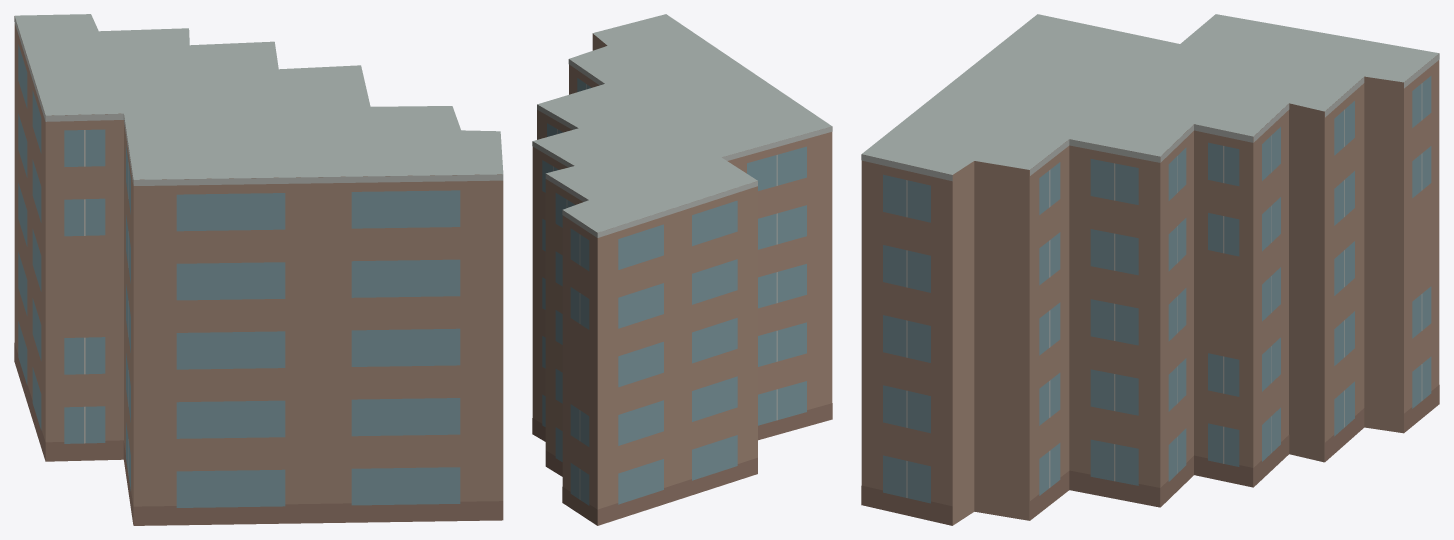
File: survey-upis-32492553.glb
3 views of the same model, side by side, from view 1: azimuth 30°, elevation 25°; view 2: azimuth 150°, elevation 25°; view 3: azimuth 270°, elevation 25° (orthographic). The views are drawn at different scales.
Parts seen in each view (by area): view 1: survey-upis-32492553.tmp; view 2: survey-upis-32492553.tmp; view 3: survey-upis-32492553.tmp.
Boxes of the visible parts, <box> form: survey-upis-32492553.tmp: <box>14,14,503,525</box>; survey-upis-32492553.tmp: <box>532,14,832,525</box>; survey-upis-32492553.tmp: <box>861,14,1439,525</box>.
Bounding box in the file's own units: 13.29 × 13.5 × 20.16.
